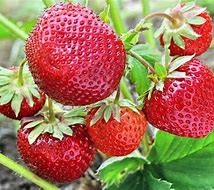Fresa: (25, 3, 129, 106), (143, 56, 214, 139), (16, 111, 96, 183), (88, 100, 147, 157), (159, 2, 214, 58), (1, 65, 46, 121)
